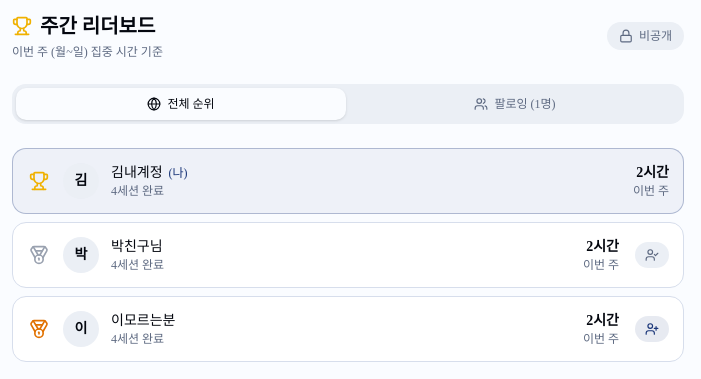
LeaderboardClient › 팔로잉 탭: 팔로우한 사람과 나만 표시한다
This screenshot has width=701, height=379.
Click the button "팔로잉 (1명)" at [515, 104], box [350,88,680,120]
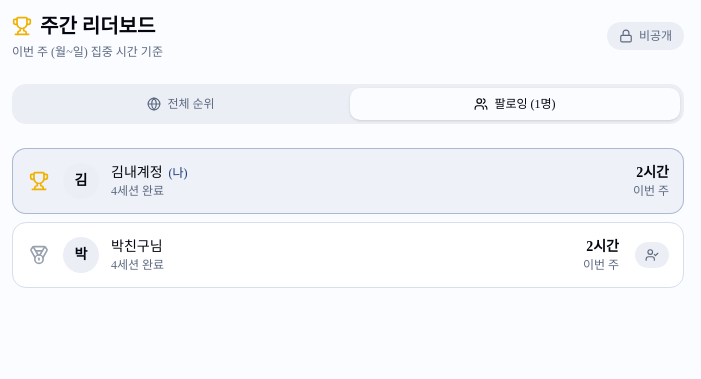
Expected: the text "김내계정" is shown, [111,165,162,180]
Expected: the text "이모르는분" is gone
